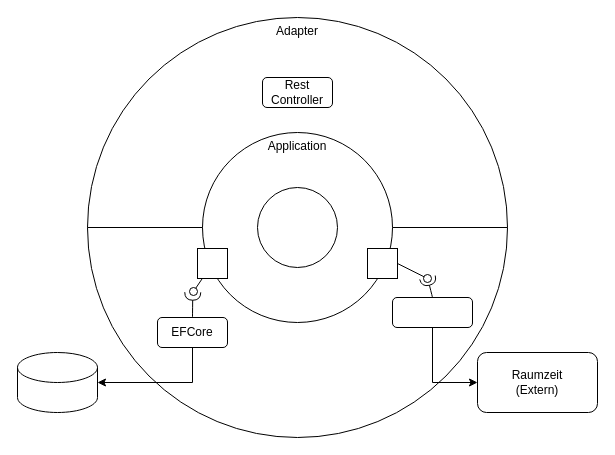
This 615x455 diagram has some shape labels left out. Each missing label, with the centre of its shape:
Domain: (x=297, y=227)
Postgres: (x=57, y=382)
RaumzeitAPI: (x=432, y=312)
